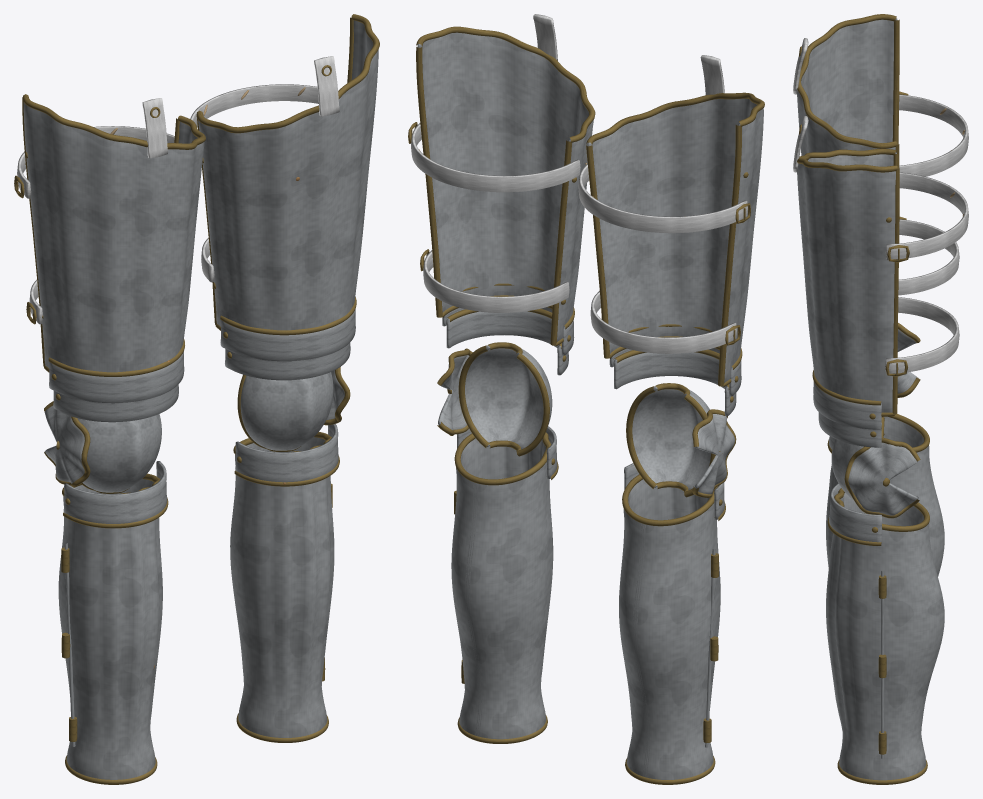
3 views of the same model, side by side, from view 1: azimuth 30°, elevation 25°; view 2: azimuth 150°, elevation 25°; view 3: azimuth 270°, elevation 25° (orthographic). The views are drawn at different scales.
Parts seen in each view (by area): view 1: polished fluted plate, aged alloy edge, oiled strap leather; view 2: polished fluted plate, aged alloy edge, oiled strap leather; view 3: polished fluted plate, aged alloy edge, oiled strap leather.
Boxes of the visible parts, x1=… form: polished fluted plate: x1=23, y1=20, x2=378, y2=779; aged alloy edge: x1=14, y1=14, x2=379, y2=784; oiled strap leather: x1=17, y1=56, x2=339, y2=324; polished fluted plate: x1=417, y1=32, x2=763, y2=779; aged alloy edge: x1=408, y1=26, x2=764, y2=784; oiled strap leather: x1=411, y1=14, x2=747, y2=353; polished fluted plate: x1=797, y1=18, x2=944, y2=780; aged alloy edge: x1=797, y1=14, x2=929, y2=784; oiled strap leather: x1=793, y1=38, x2=968, y2=373.
Bounding box in the file's own units: 0.4219 × 0.8149 × 0.2001.
5 materials, 3 textured.
